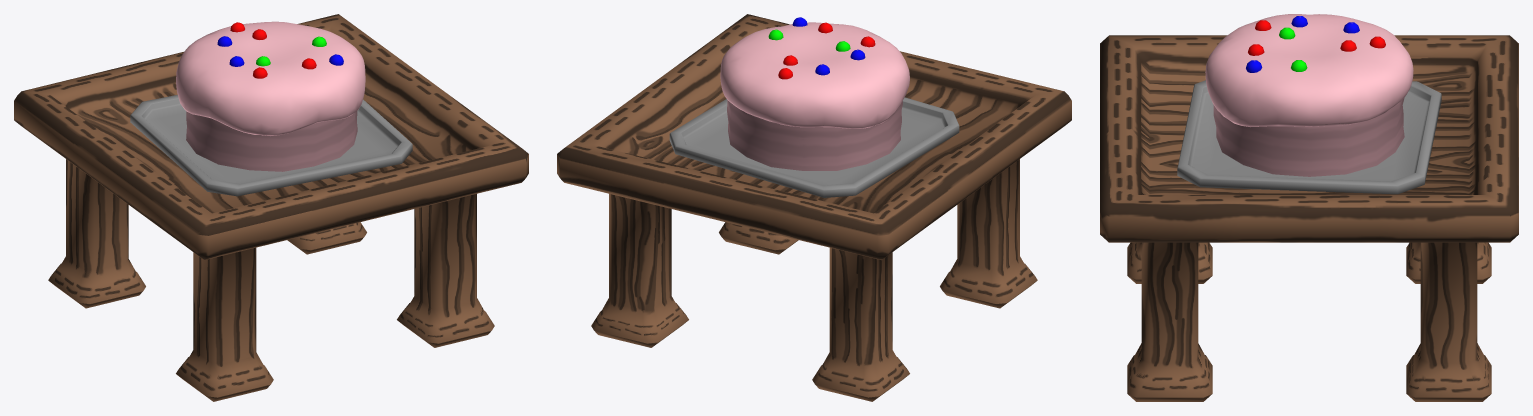
The model's file is FinalCake.fbx.
3 renders of one model, left to right at view 1: azimuth 30°, elevation 25°; view 2: azimuth 150°, elevation 25°; view 3: azimuth 270°, elevation 25°, orthographic. The views are drawn at different scales.
Visible parts, largest first — view 1: Table, Cake, Plate; view 2: Table, Cake, Plate; view 3: Table, Cake, Plate.
Part boxes in pixels (bbox=[...]): Table: bbox=[14, 14, 528, 401]; Cake: bbox=[176, 21, 365, 171]; Plate: bbox=[130, 95, 412, 196]; Table: bbox=[557, 14, 1071, 401]; Cake: bbox=[720, 17, 909, 170]; Plate: bbox=[669, 97, 959, 197]; Table: bbox=[1100, 35, 1518, 401]; Cake: bbox=[1205, 14, 1413, 176]; Plate: bbox=[1177, 80, 1441, 194].
Size of the model in its own units: 2 by 1.54 by 2.
